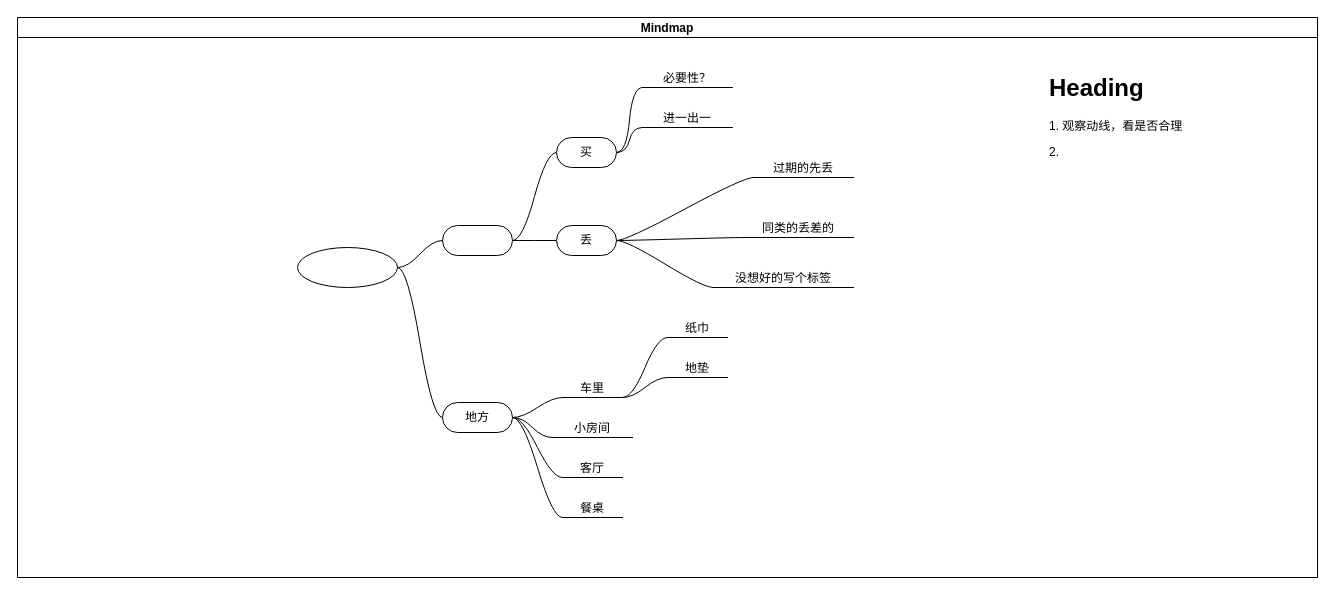
This 1335x595 diagram has some shape labels left out. The shapes that lost their labels are listed below. From the top down, each one's centre as x and y in pixels, then its label:
point 477,240: 方法
point 347,267: 整洁
